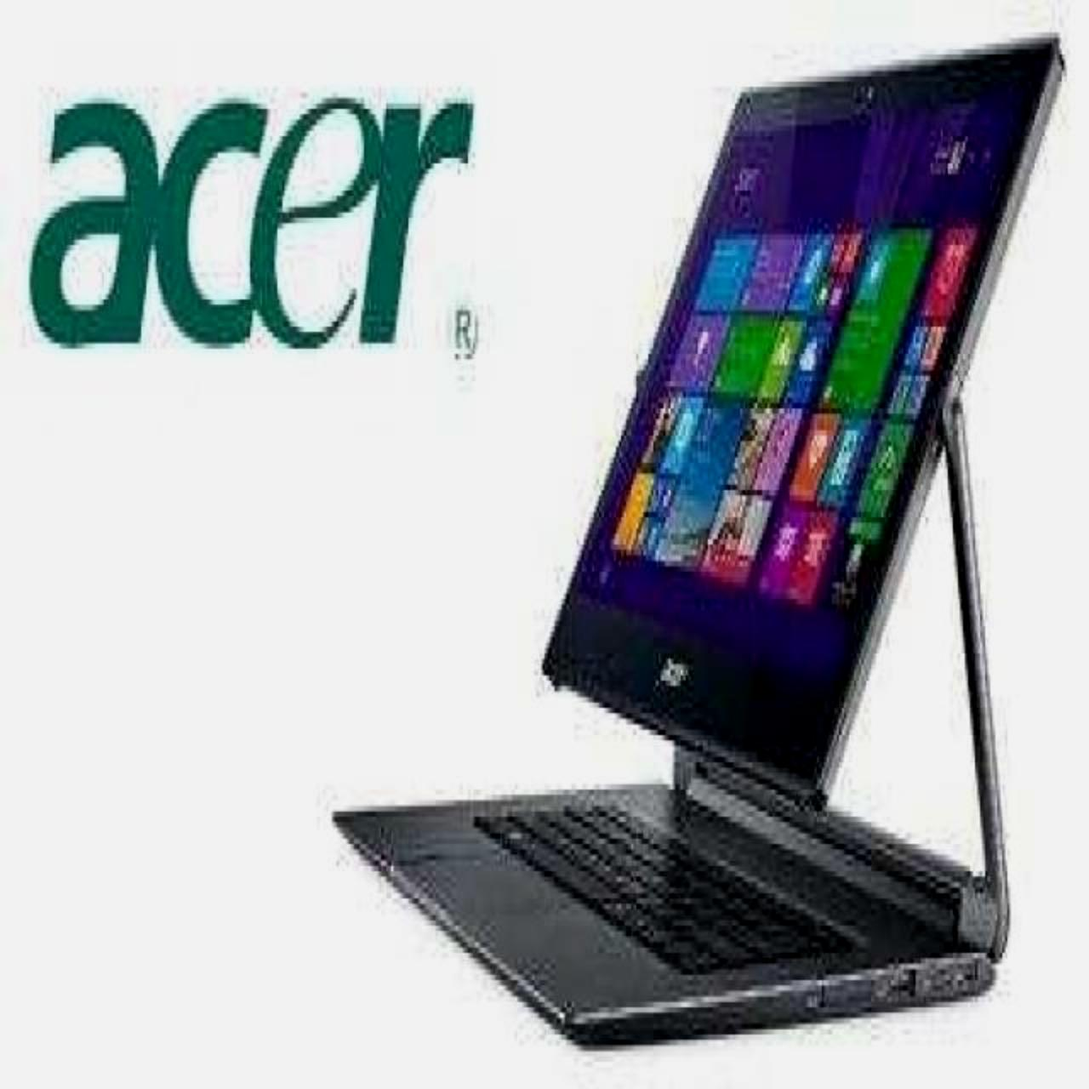laptop: (403, 0, 1077, 1072)
